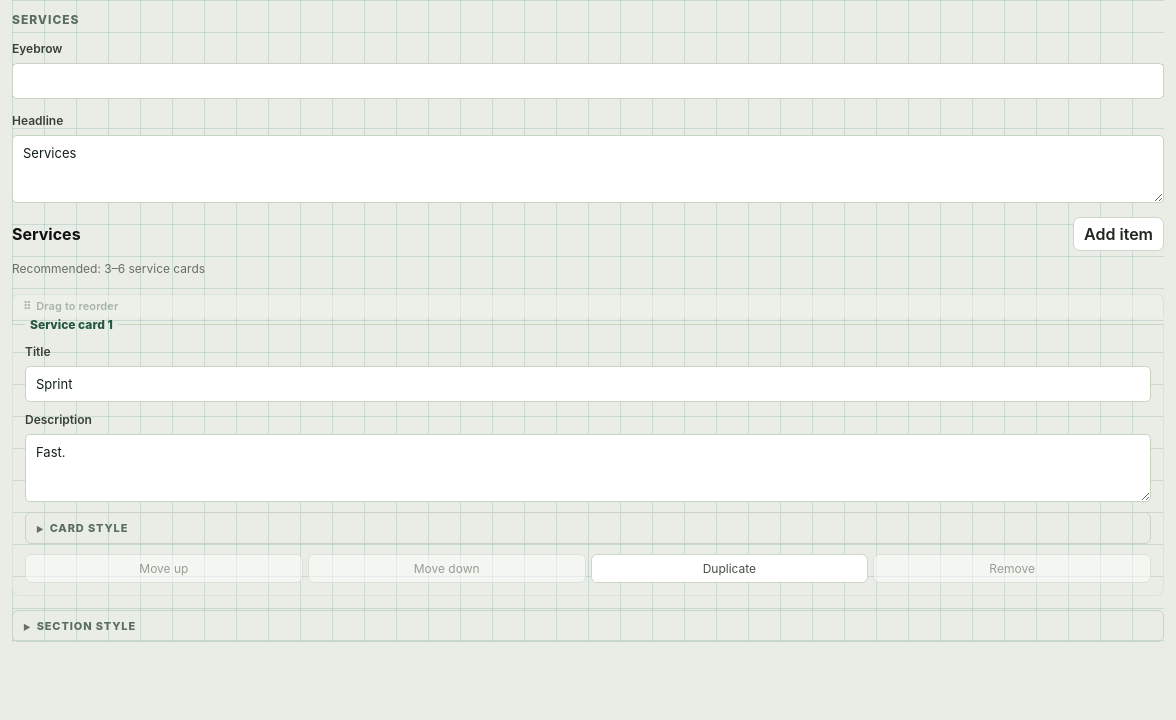
Test: CardStyleActions — preset / copy / paste / reset / apply-to-all › renders style preset dropdown and action buttons inside Card style panel
Click the heading "Card style". click: (89, 528)
box: x1=50 y1=521 x2=128 y2=535
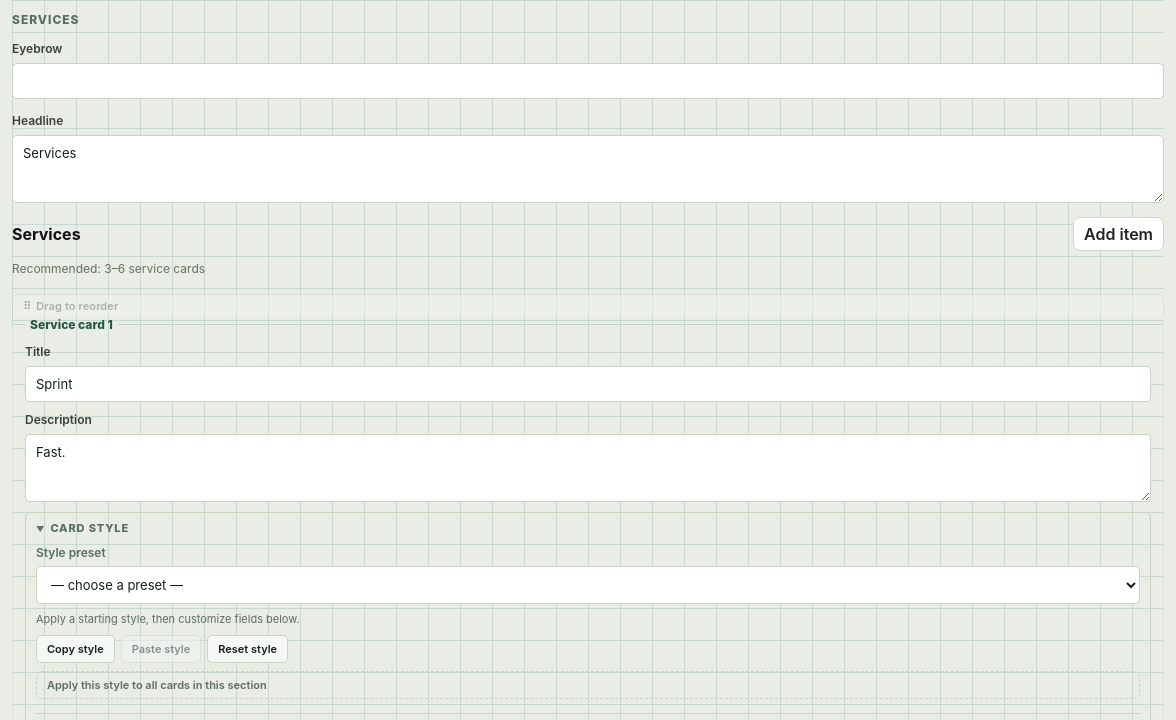
Result: the dropdown labelled "Style preset" is shown at x1=36 y1=566 x2=1140 y2=604
Result: the button "Copy style" is shown at x1=36 y1=635 x2=115 y2=663
Result: the button "Paste style" is shown at x1=121 y1=635 x2=201 y2=663
